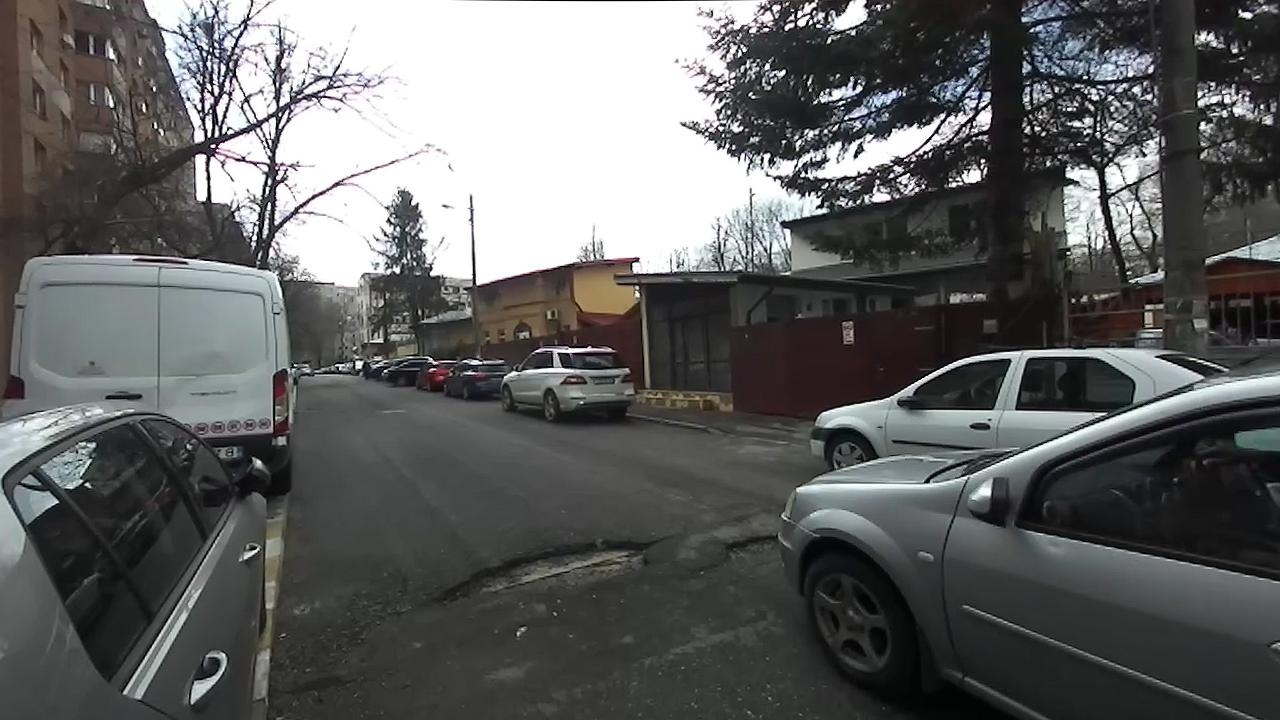pothole: (414, 533, 667, 617), (714, 528, 780, 570)
